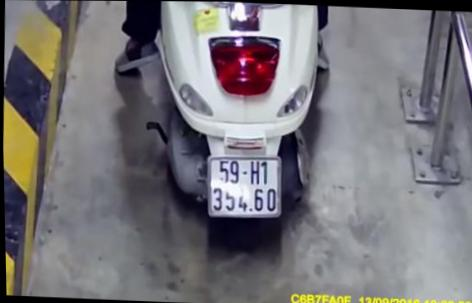LP: (203, 151, 285, 221)
